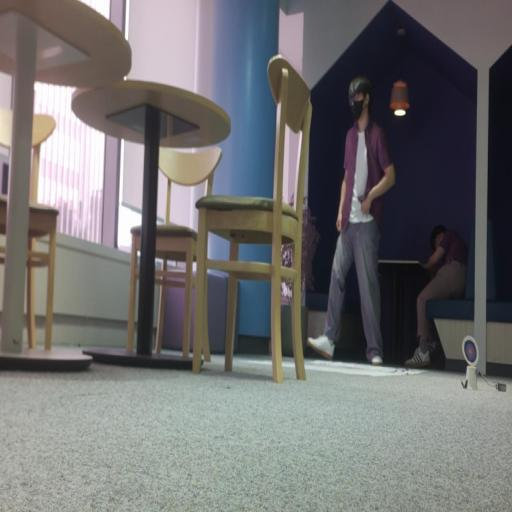target: (462, 336, 478, 367)
